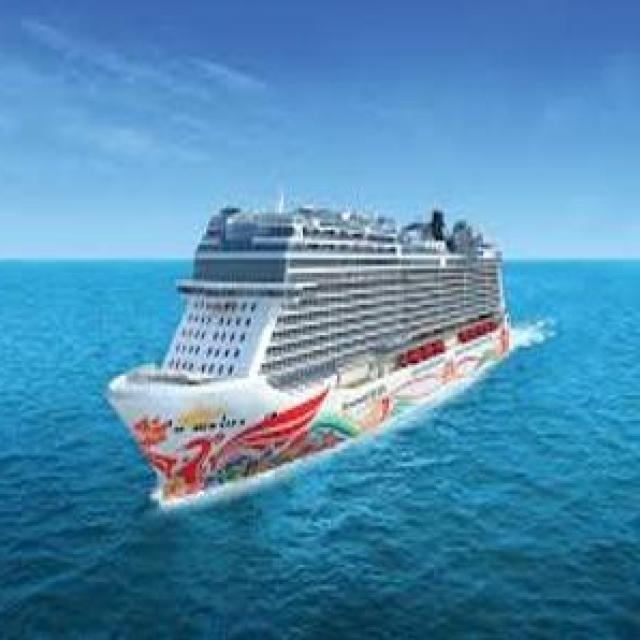passenger ship: (110, 198, 522, 504)
